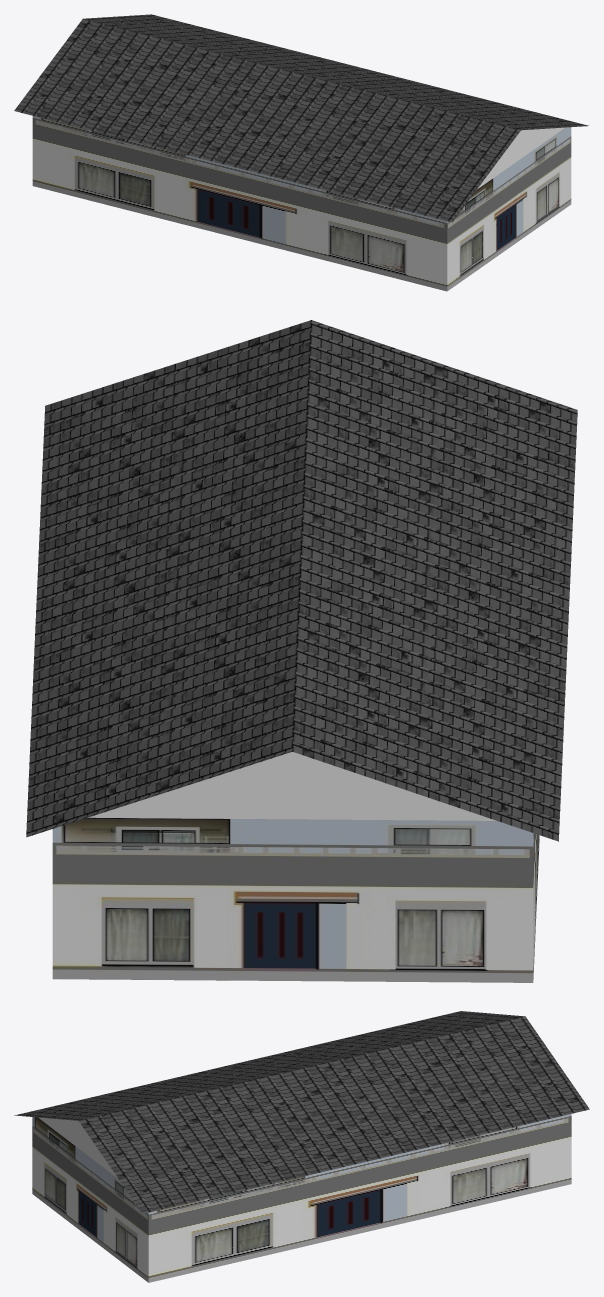
The picture shows the model from 3 angles, top to bottom: view 1: azimuth 30°, elevation 25°; view 2: azimuth 150°, elevation 25°; view 3: azimuth 270°, elevation 25°; orthographic projection. The views are drawn at different scales.
Visible parts, largest first — view 1: CityEngineMaterial_8_m, CityEngineMaterial_7_m, CityEngineMaterial_3_m; view 2: CityEngineMaterial_8_m, CityEngineMaterial_7_m, CityEngineMaterial_3_m; view 3: CityEngineMaterial_8_m, CityEngineMaterial_7_m, CityEngineMaterial_3_m.
Part boxes in pixels (bbox=[...]): CityEngineMaterial_8_m: bbox=[14, 14, 588, 222]; CityEngineMaterial_7_m: bbox=[32, 116, 571, 291]; CityEngineMaterial_3_m: bbox=[477, 127, 564, 189]; CityEngineMaterial_8_m: bbox=[26, 320, 577, 841]; CityEngineMaterial_7_m: bbox=[52, 817, 539, 982]; CityEngineMaterial_3_m: bbox=[88, 752, 496, 820]; CityEngineMaterial_8_m: bbox=[14, 1011, 589, 1213]; CityEngineMaterial_7_m: bbox=[32, 1114, 571, 1282]; CityEngineMaterial_3_m: bbox=[38, 1117, 118, 1178].
Size of the model in its own units: 34.73 by 9.62 by 41.65.
